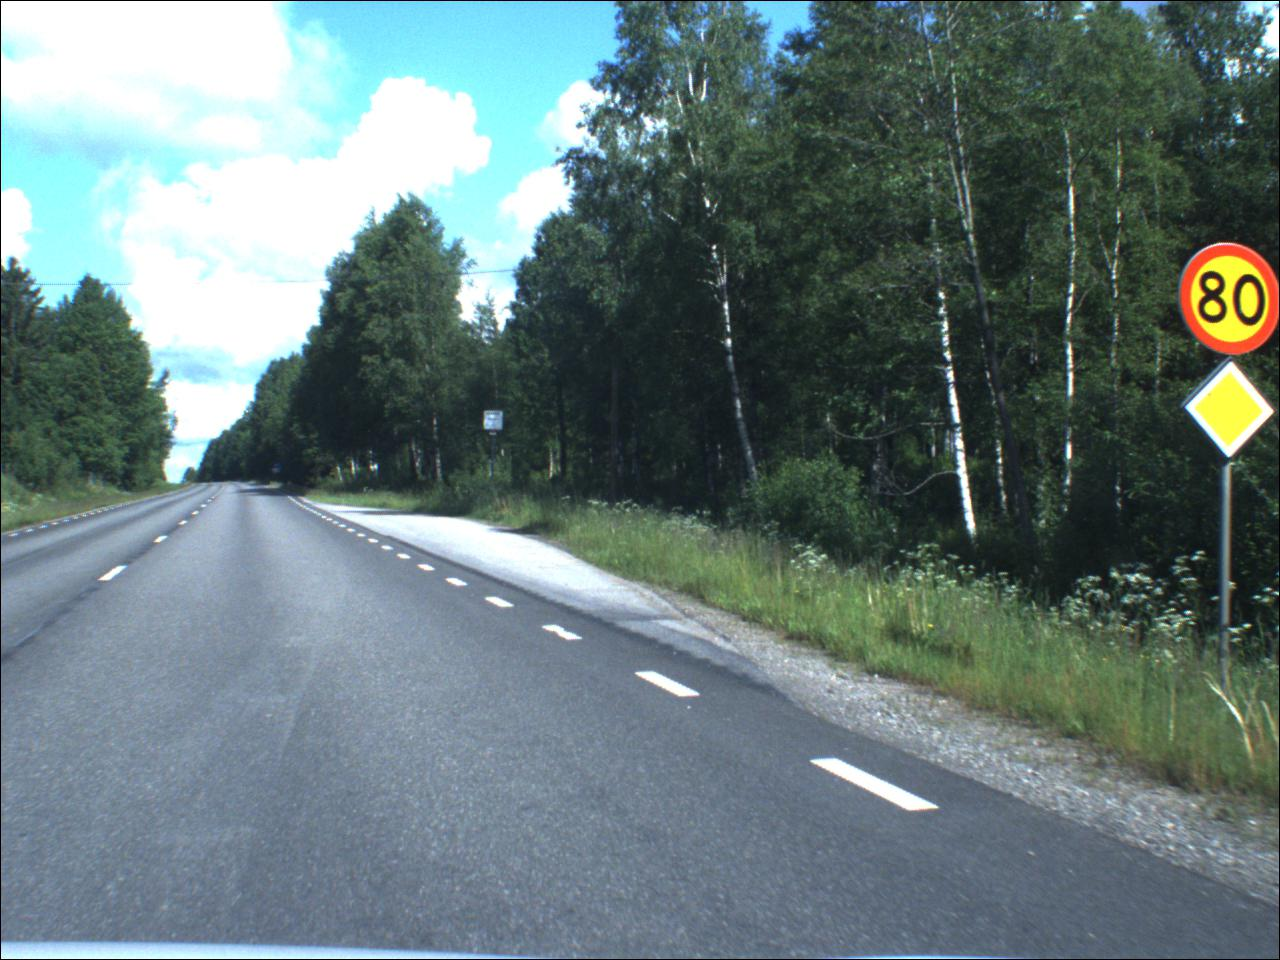80_SIGN: (1181, 241, 1280, 360)
PRIORITY_ROAD: (1180, 360, 1277, 464)
